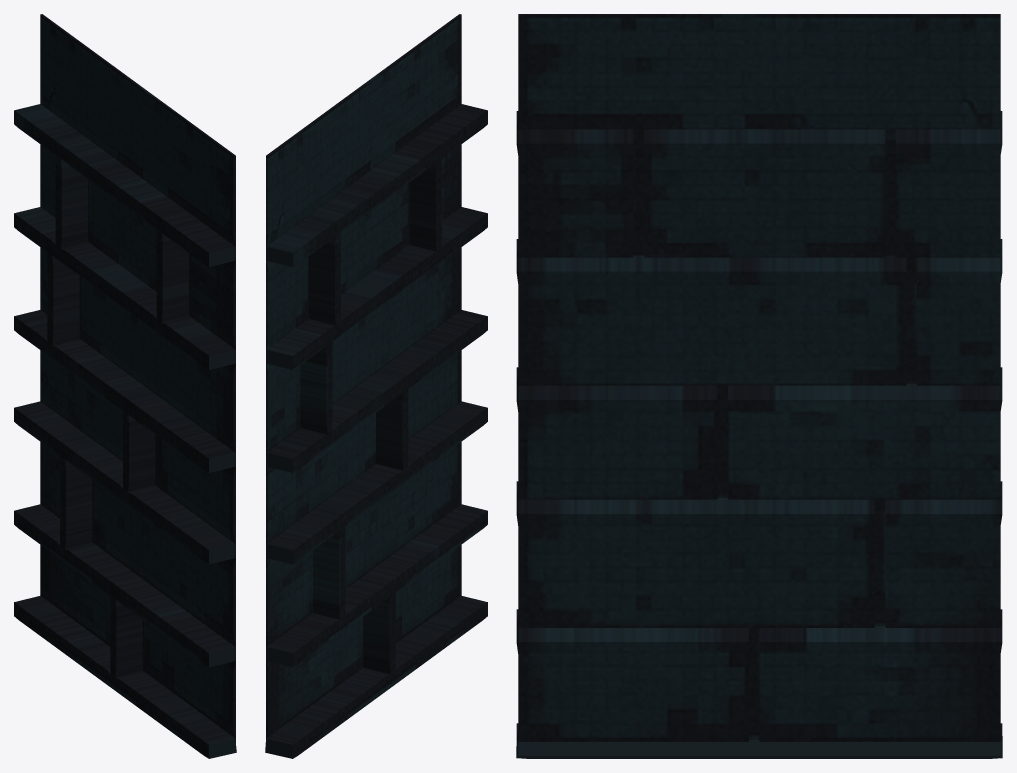
The model's file is wall_variant_brik2.fbx.
3 views of the same model, side by side, from view 1: azimuth 30°, elevation 25°; view 2: azimuth 150°, elevation 25°; view 3: azimuth 270°, elevation 25° (orthographic). The views are drawn at different scales.
Visible parts, largest first — view 1: Portal_1.001; view 2: Portal_1.001; view 3: Portal_1.001.
Boxes of the visible parts, x1=… form: Portal_1.001: x1=14, y1=14, x2=236, y2=758; Portal_1.001: x1=265, y1=14, x2=487, y2=758; Portal_1.001: x1=516, y1=14, x2=1002, y2=758.
Bounding box in the file's own units: 1.28 × 25.84 × 15.32.
Materials: 1 (1 with a texture image).
